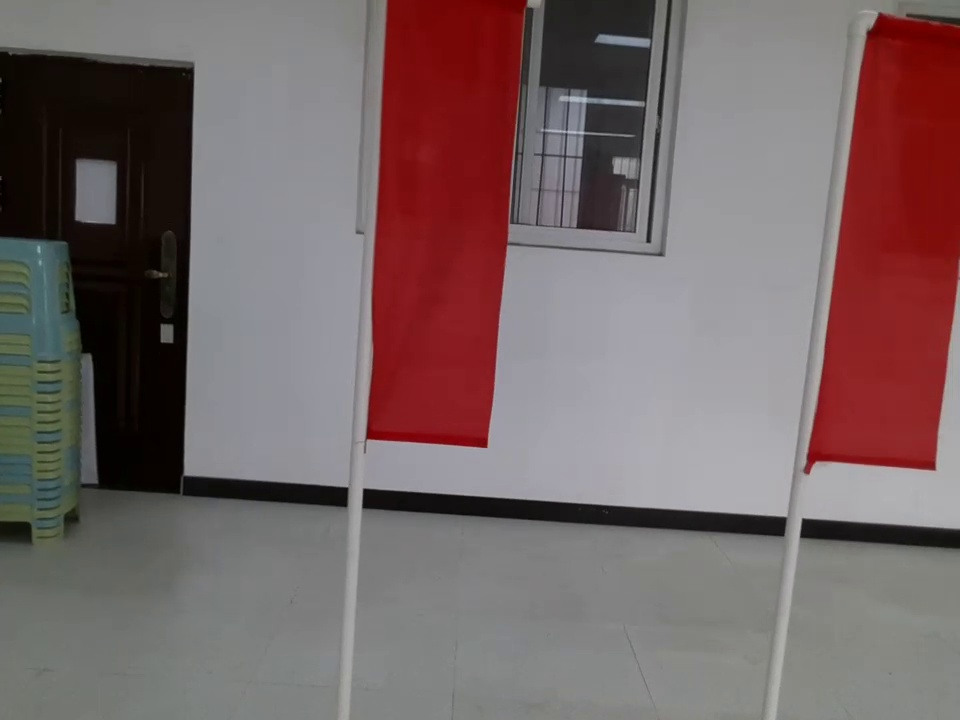qi: (342, 1, 529, 460), (795, 1, 960, 502)
